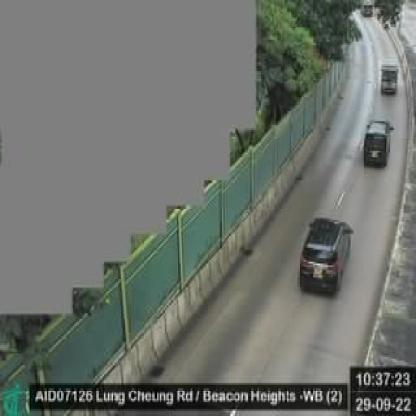Car: (293, 212, 356, 297), (359, 114, 394, 174), (380, 54, 402, 97)
